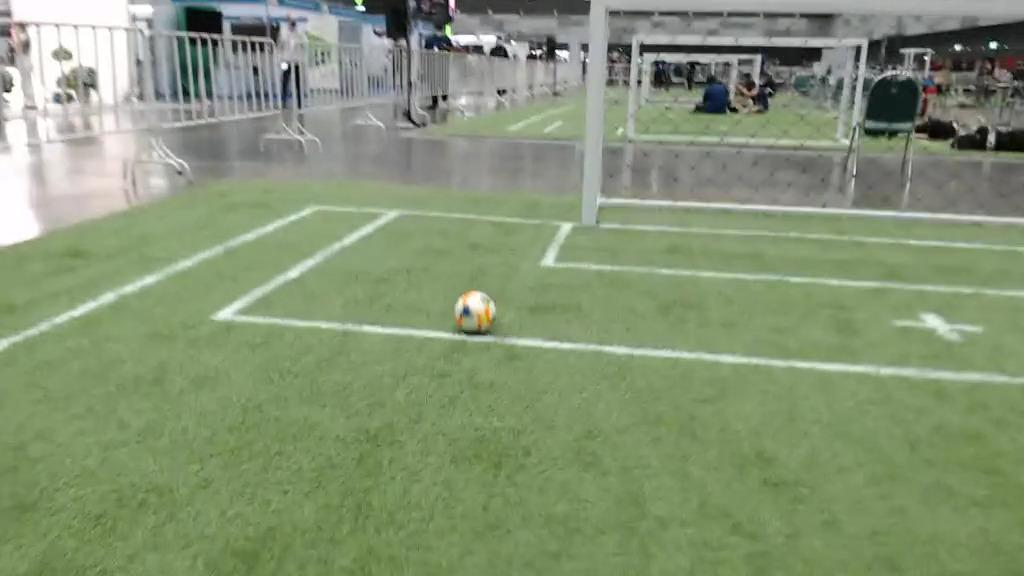ball: (452, 291, 498, 337)
